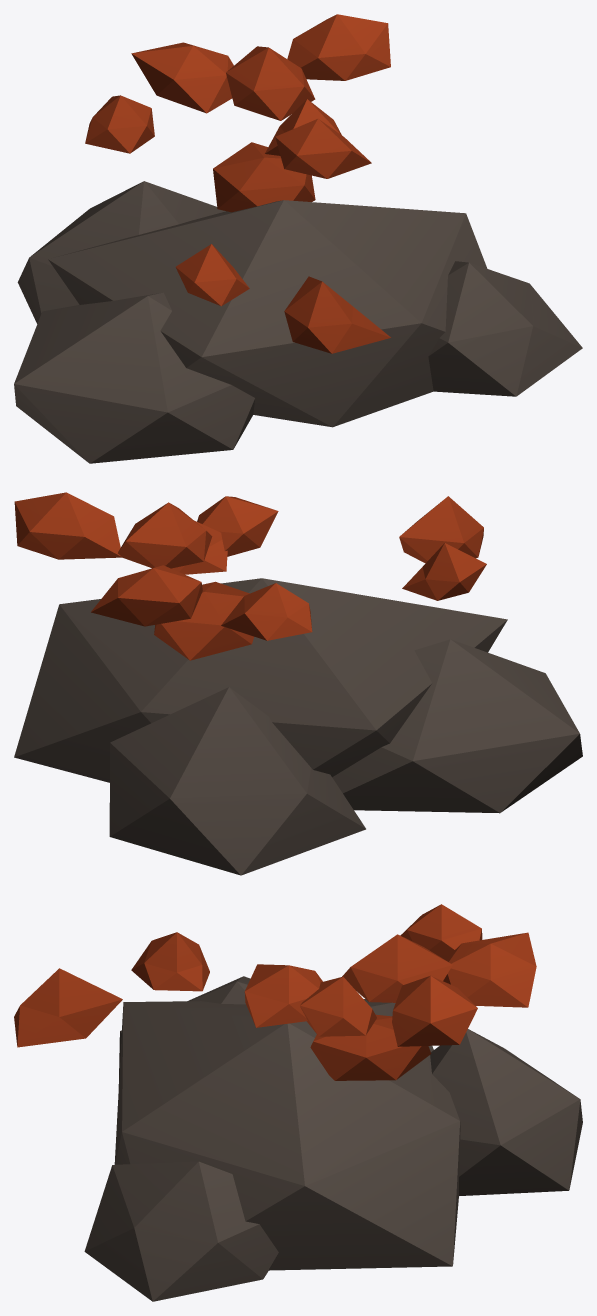
Rendered from ore1.glb.
The picture shows the model from 3 angles, top to bottom: view 1: azimuth 30°, elevation 25°; view 2: azimuth 150°, elevation 25°; view 3: azimuth 270°, elevation 25°; orthographic projection. The views are drawn at different scales.
Parts seen in each view (by area): view 1: ore1; view 2: ore1; view 3: ore1.
Part boxes in pixels (x1,y1,x2,y2): ore1: [14, 14, 582, 463]; ore1: [14, 492, 582, 875]; ore1: [14, 904, 582, 1301].
Size of the model in its own units: 0.7512 by 0.3589 by 0.6846.
